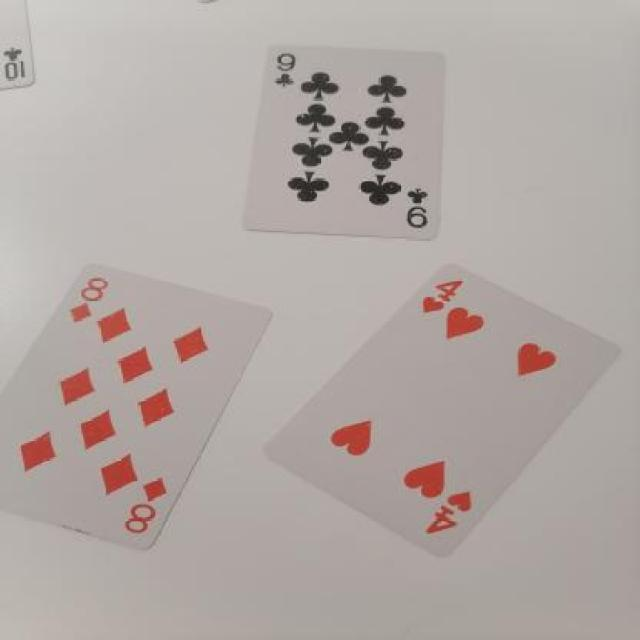4H: (409, 272, 476, 326)
8D: (63, 259, 114, 336)
9C: (261, 43, 310, 91)
